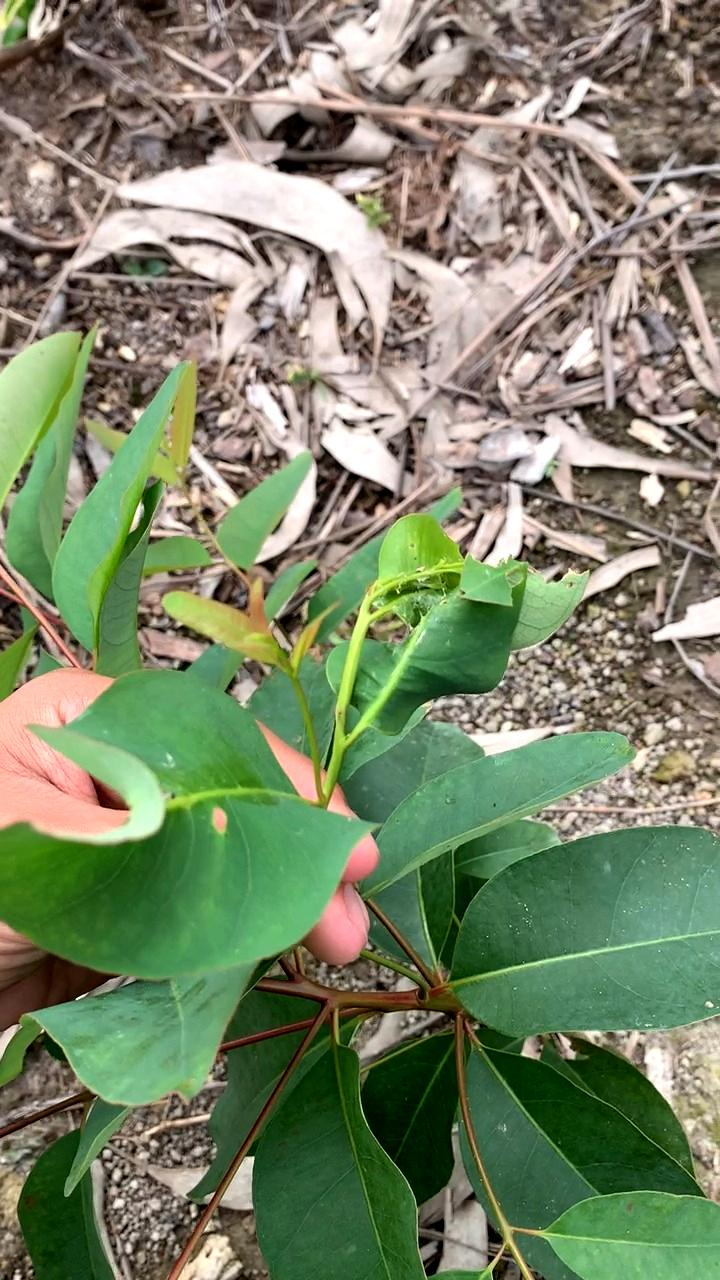Leaf Roller - Leaf: (329, 501, 563, 764)
